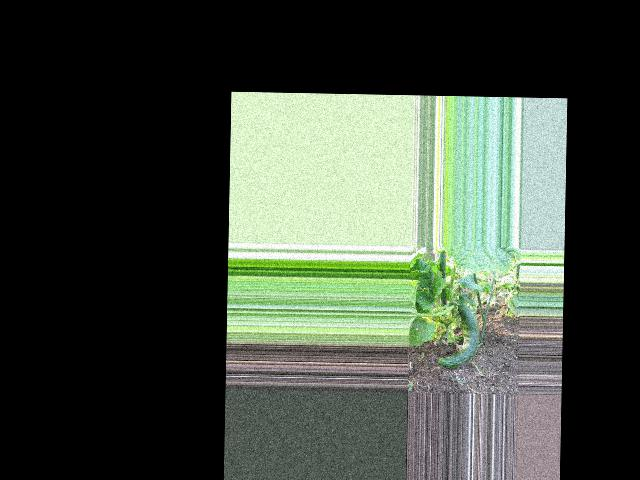cucumber: (437, 303, 480, 369)
